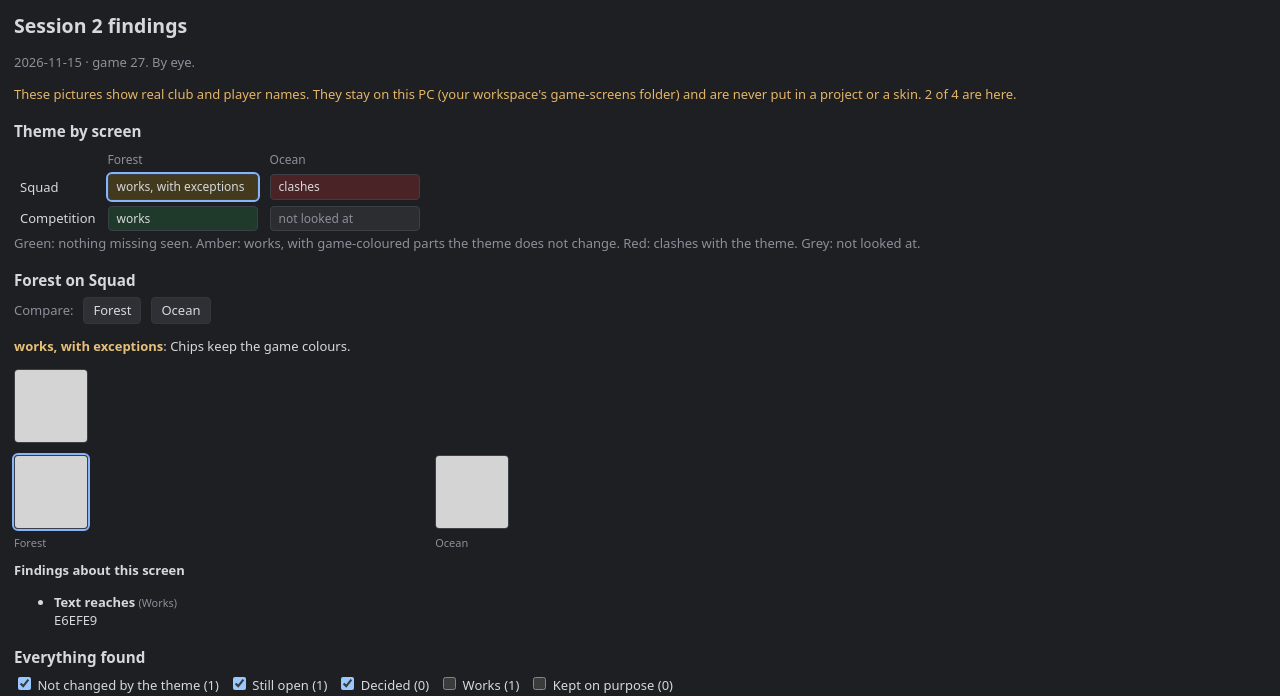
Test: Findings › opens a cell: its note, its screenshot, the same screen in every theme, and the findings about that screen
Click the button with test id "cell-ocean-squad" at (345, 187), box [270, 174, 420, 200]
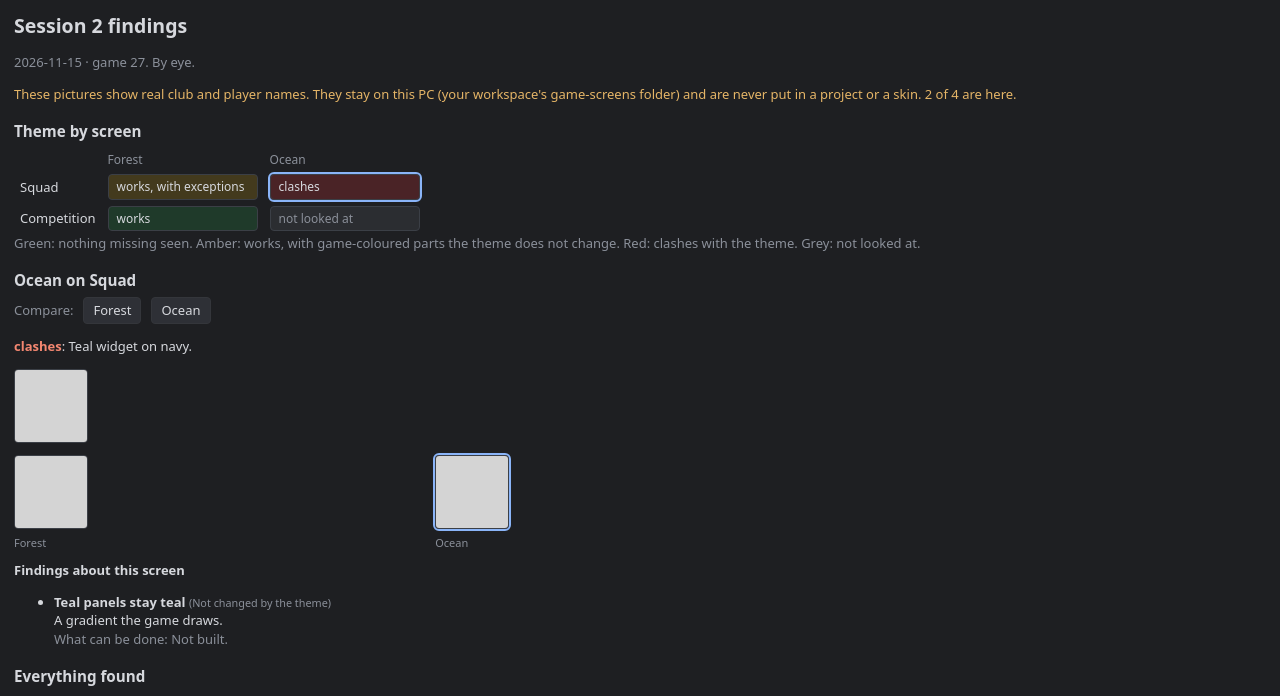
Expected: the text "Teal panels stay teal" is shown, [54, 592, 186, 610]
Expected: the element with test id "verdict-note" reads "clashes: Teal widget on navy.", [14, 337, 192, 355]
